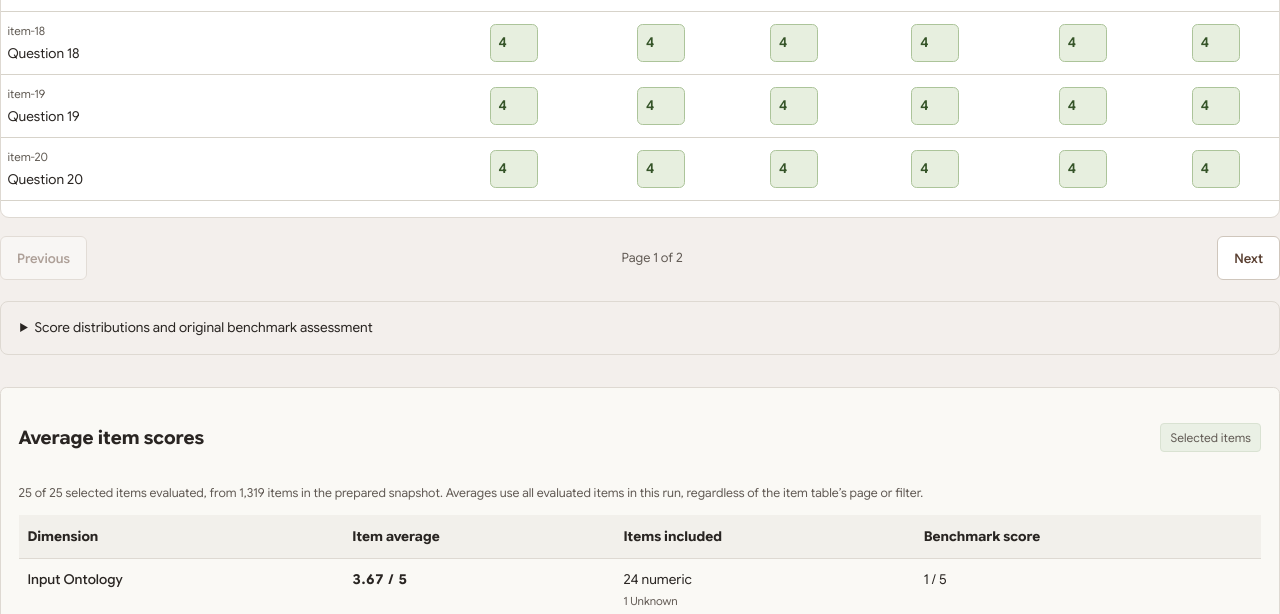
it: keeps distributions collapsed above averages and inspects a dimension across all pages
The width and height of the screenshot is (1280, 614).
(page scrolled)
Click the button "Next" at x=1249, y=258, box [1217,236,1279,280]
(page scrolled)
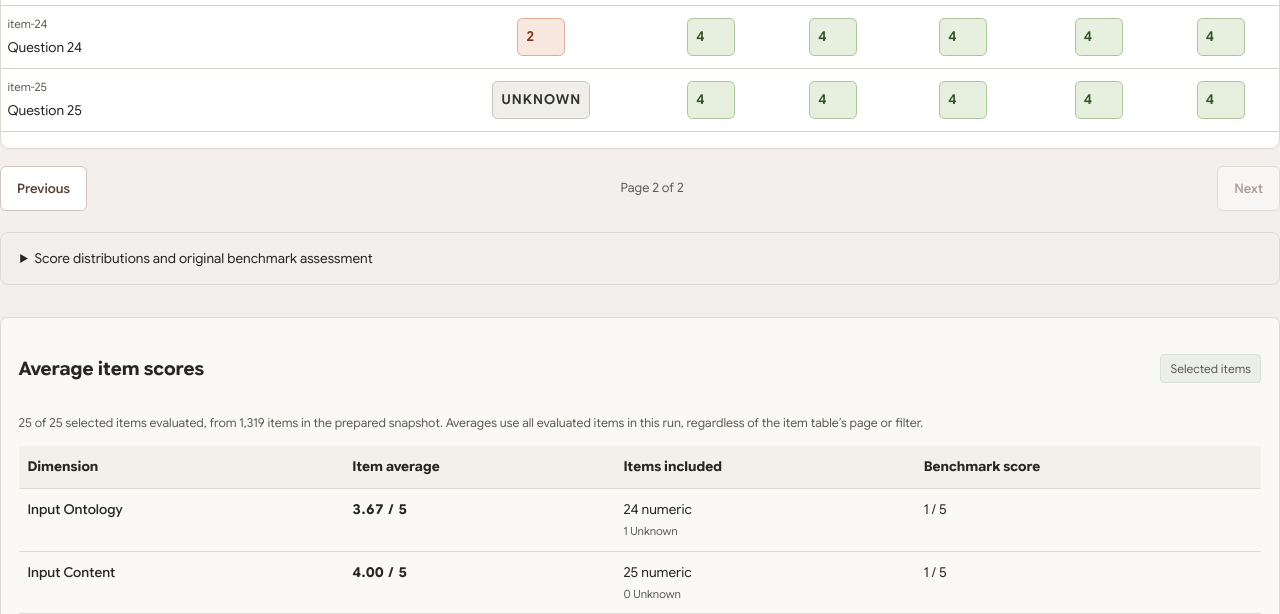
Click the heading "Score distributions and original benchmark assessment" at x=204, y=258, box [35,250,373,267]
(page scrolled)
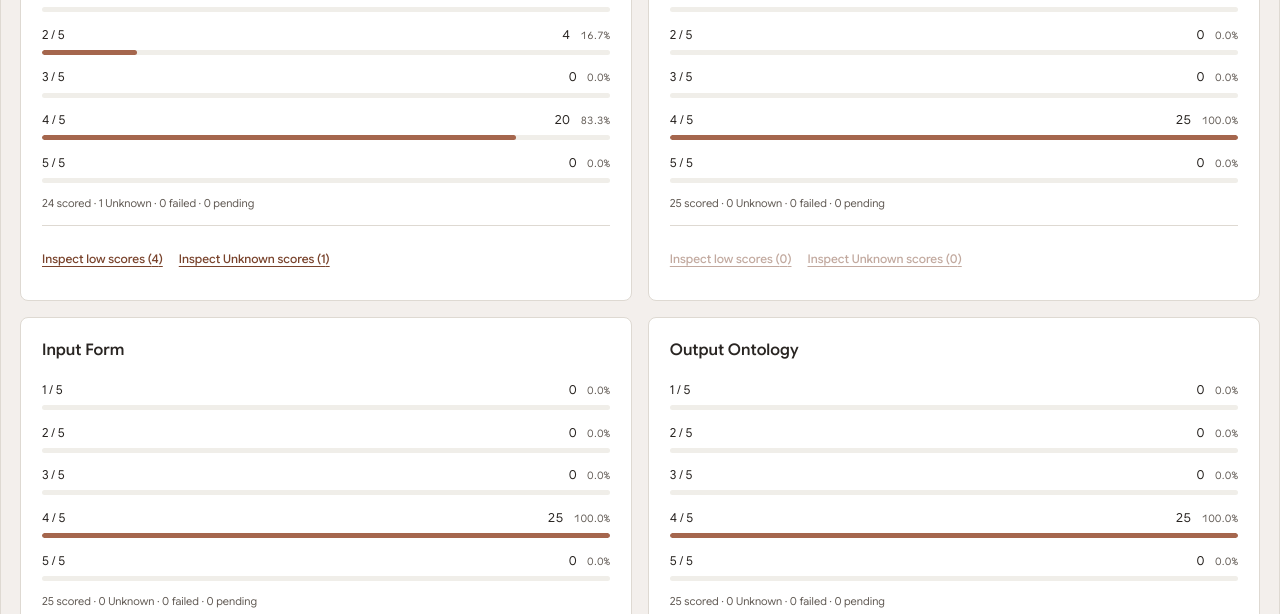
Click the button "Inspect low scores (4)" at x=102, y=258, box [42,237,163,279]
(page scrolled)
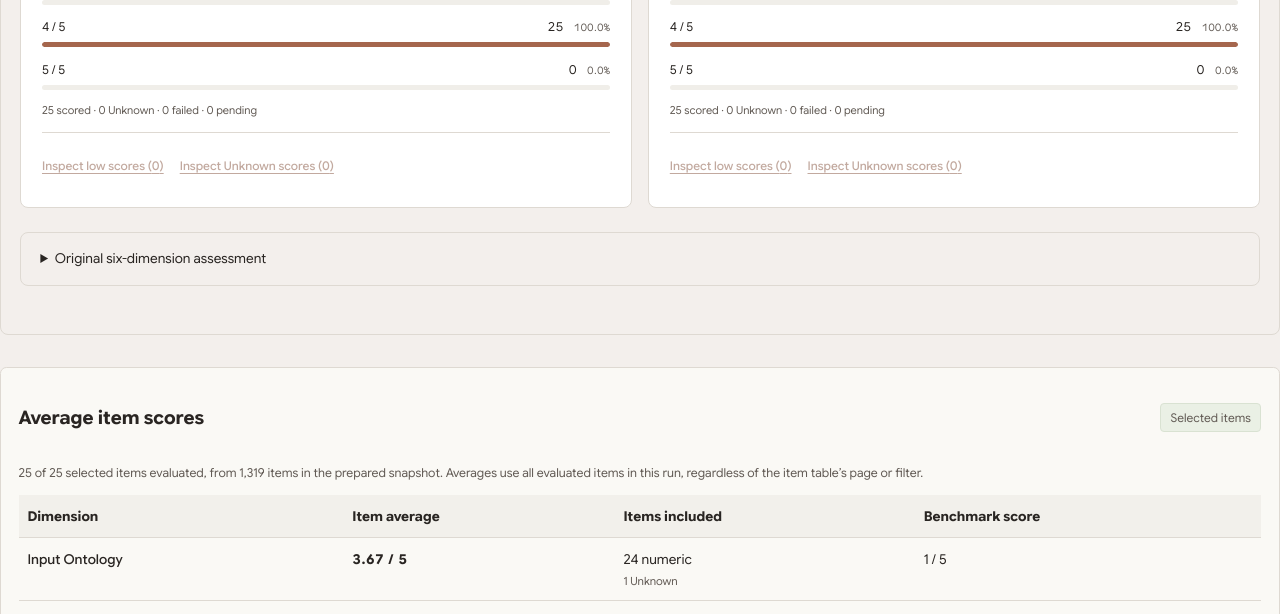
Click the heading "Original six-dimension assessment" at x=161, y=259, box [55,250,266,267]
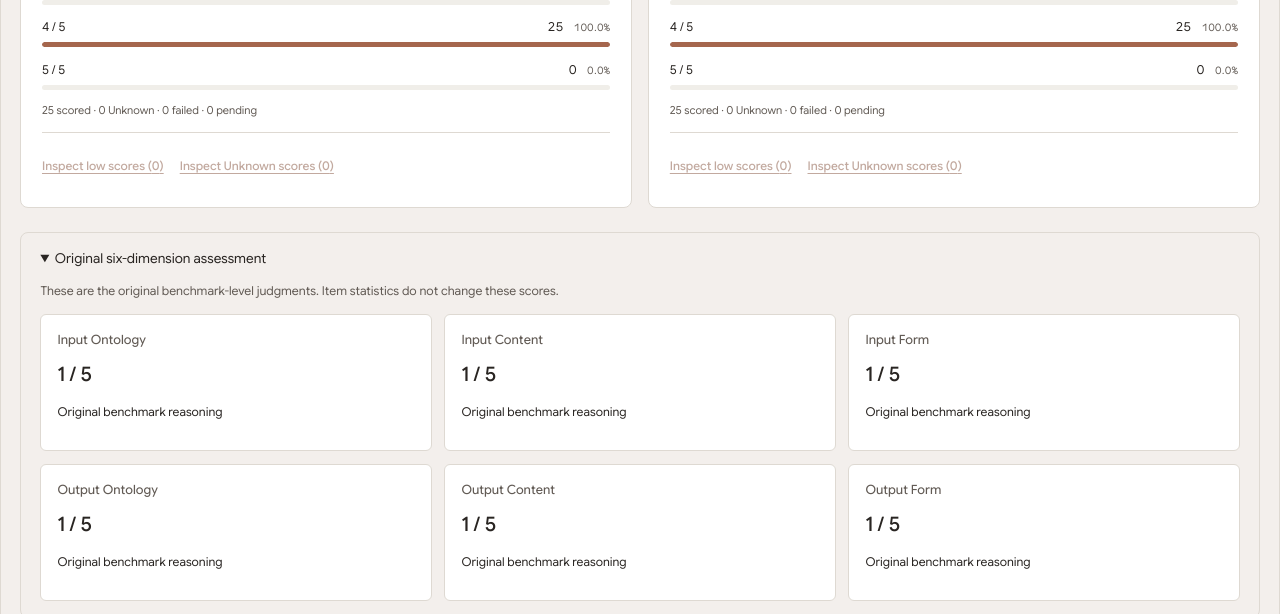
Result: the text "Original benchmark reasoning" is shown 6 times at [57,404,222,419]; [461,404,626,419]; [865,404,1030,419]; [57,554,222,568]; [461,554,626,568]; [865,554,1030,568]
